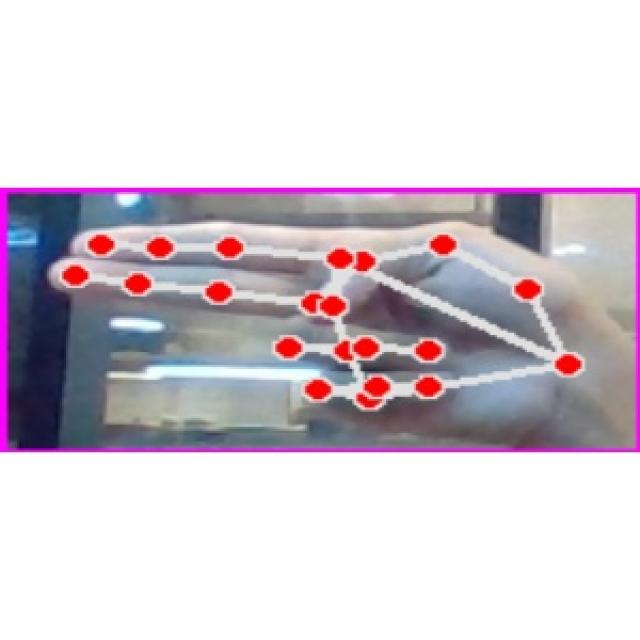H: (32, 212, 606, 442)
